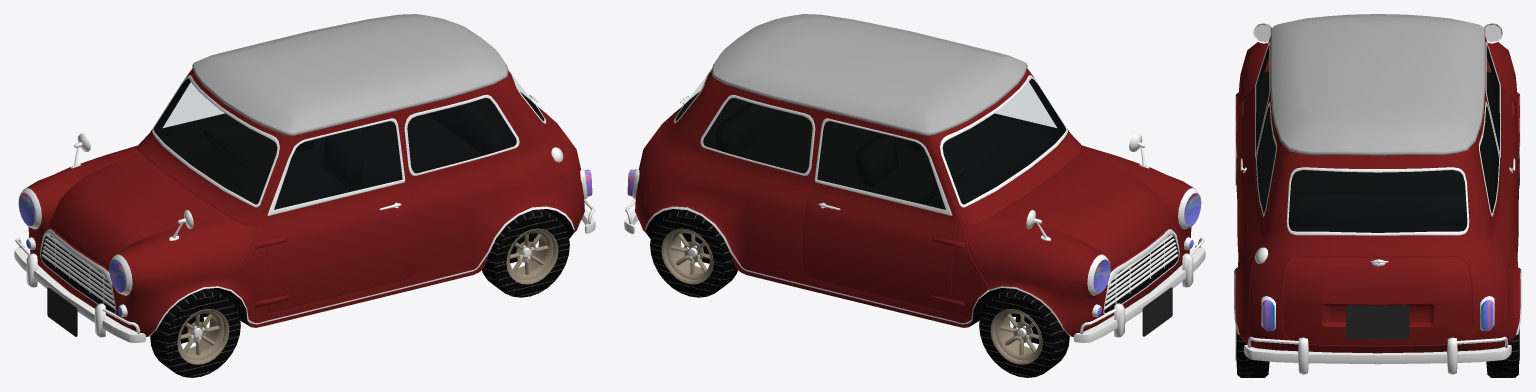
3 views of the same model, side by side, from view 1: azimuth 30°, elevation 25°; view 2: azimuth 150°, elevation 25°; view 3: azimuth 270°, elevation 25° (orthographic). The views are drawn at different scales.
Visible parts, largest first — view 1: bodyshell_ASTNMINI_BODY_0, roof_ASTNMINI_ROOFCOLOUR_0, interior_ASTNMINI_VOID_0, bodyshell_chrometrim_ASTNMINI_CHROME_0, tier_ASTNMINI_tier_1t_0, tier001_ASTNMINI_tier_1t_0, bumper_front_ASTNMINI_CHROME_0, grill_ASTNMINI_CHROME_0, rim001_ASTNMINI_RIMCOLOUR_0, rim_ASTNMINI_RIMCOLOUR_0, grill_void_ASTNMINI_VOID_0, glass_ASTNMINI_GLASS_0 (+5 smaller); view 2: bodyshell_ASTNMINI_BODY_0, roof_ASTNMINI_ROOFCOLOUR_0, interior_ASTNMINI_VOID_0, bodyshell_chrometrim_ASTNMINI_CHROME_0, tier003_ASTNMINI_tier_1t_0, tier002_ASTNMINI_tier_1t_0, bumper_front_ASTNMINI_CHROME_0, grill_ASTNMINI_CHROME_0, rim002_ASTNMINI_RIMCOLOUR_0, rim003_ASTNMINI_RIMCOLOUR_0, glass_ASTNMINI_GLASS_0, grill_void_ASTNMINI_VOID_0 (+5 smaller); view 3: bodyshell_ASTNMINI_BODY_0, roof_ASTNMINI_ROOFCOLOUR_0, interior_ASTNMINI_VOID_0, bumper_rear_ASTNMINI_CHROME_0, bodyshell_chrometrim_ASTNMINI_CHROME_0, rear_numperplate, tier002_ASTNMINI_tier_1t_0, tier001_ASTNMINI_tier_1t_0, backlights_glass_ASTNMINI_headlights_ucb_0, sidemirrors_ASTNMINI_CHROME_0, backlights_trim_ASTNMINI_CHROME_0.
Boxes of the visible parts, x1=… form: bodyshell_ASTNMINI_BODY_0: x1=25, y1=68, x2=584, y2=336; roof_ASTNMINI_ROOFCOLOUR_0: x1=192, y1=14, x2=508, y2=135; interior_ASTNMINI_VOID_0: x1=153, y1=78, x2=544, y2=209; bodyshell_chrometrim_ASTNMINI_CHROME_0: x1=147, y1=69, x2=574, y2=336; tier_ASTNMINI_tier_1t_0: x1=150, y1=288, x2=240, y2=377; tier001_ASTNMINI_tier_1t_0: x1=482, y1=209, x2=569, y2=297; bumper_front_ASTNMINI_CHROME_0: x1=14, y1=237, x2=146, y2=342; grill_ASTNMINI_CHROME_0: x1=40, y1=229, x2=116, y2=314; rim001_ASTNMINI_RIMCOLOUR_0: x1=506, y1=228, x2=558, y2=284; rim_ASTNMINI_RIMCOLOUR_0: x1=177, y1=309, x2=229, y2=364; grill_void_ASTNMINI_VOID_0: x1=41, y1=235, x2=115, y2=312; glass_ASTNMINI_GLASS_0: x1=163, y1=78, x2=532, y2=127; bodyshell_ASTNMINI_BODY_0: x1=635, y1=68, x2=1193, y2=336; roof_ASTNMINI_ROOFCOLOUR_0: x1=711, y1=14, x2=1027, y2=135; interior_ASTNMINI_VOID_0: x1=675, y1=78, x2=1066, y2=209; bodyshell_chrometrim_ASTNMINI_CHROME_0: x1=645, y1=69, x2=1071, y2=336; tier003_ASTNMINI_tier_1t_0: x1=979, y1=288, x2=1069, y2=377; tier002_ASTNMINI_tier_1t_0: x1=650, y1=209, x2=737, y2=297; bumper_front_ASTNMINI_CHROME_0: x1=1073, y1=237, x2=1205, y2=342; grill_ASTNMINI_CHROME_0: x1=1103, y1=229, x2=1179, y2=314; rim002_ASTNMINI_RIMCOLOUR_0: x1=661, y1=228, x2=713, y2=284; rim003_ASTNMINI_RIMCOLOUR_0: x1=990, y1=309, x2=1042, y2=364; glass_ASTNMINI_GLASS_0: x1=687, y1=78, x2=1056, y2=127; grill_void_ASTNMINI_VOID_0: x1=1104, y1=235, x2=1178, y2=312; bodyshell_ASTNMINI_BODY_0: x1=1235, y1=36, x2=1520, y2=353; roof_ASTNMINI_ROOFCOLOUR_0: x1=1270, y1=14, x2=1485, y2=155; interior_ASTNMINI_VOID_0: x1=1256, y1=45, x2=1499, y2=232; bumper_rear_ASTNMINI_CHROME_0: x1=1244, y1=336, x2=1511, y2=374; bodyshell_chrometrim_ASTNMINI_CHROME_0: x1=1234, y1=42, x2=1521, y2=334; rear_numperplate: x1=1346, y1=305, x2=1409, y2=339; tier002_ASTNMINI_tier_1t_0: x1=1486, y1=330, x2=1519, y2=377; tier001_ASTNMINI_tier_1t_0: x1=1236, y1=330, x2=1269, y2=377; backlights_glass_ASTNMINI_headlights_ucb_0: x1=1262, y1=300, x2=1493, y2=331; sidemirrors_ASTNMINI_CHROME_0: x1=1253, y1=23, x2=1502, y2=43; backlights_trim_ASTNMINI_CHROME_0: x1=1261, y1=296, x2=1494, y2=330.
Bounding box in the file's own units: 2.71 × 1.19 × 1.28.
